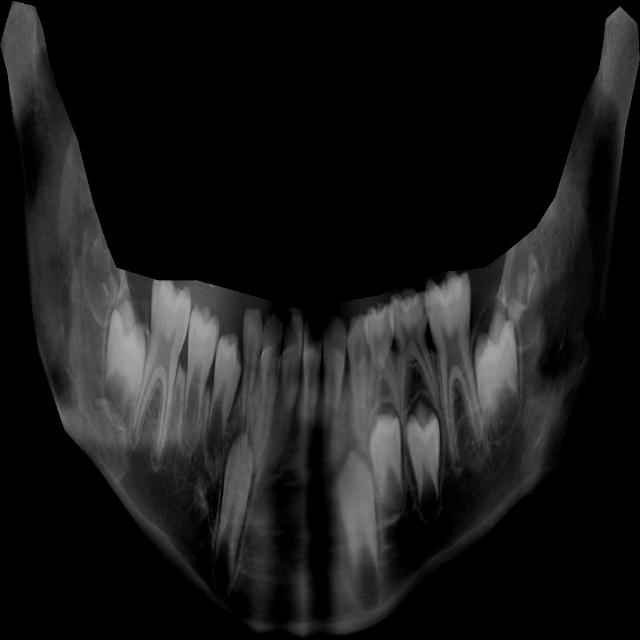mandibula: (0, 0, 640, 640)
